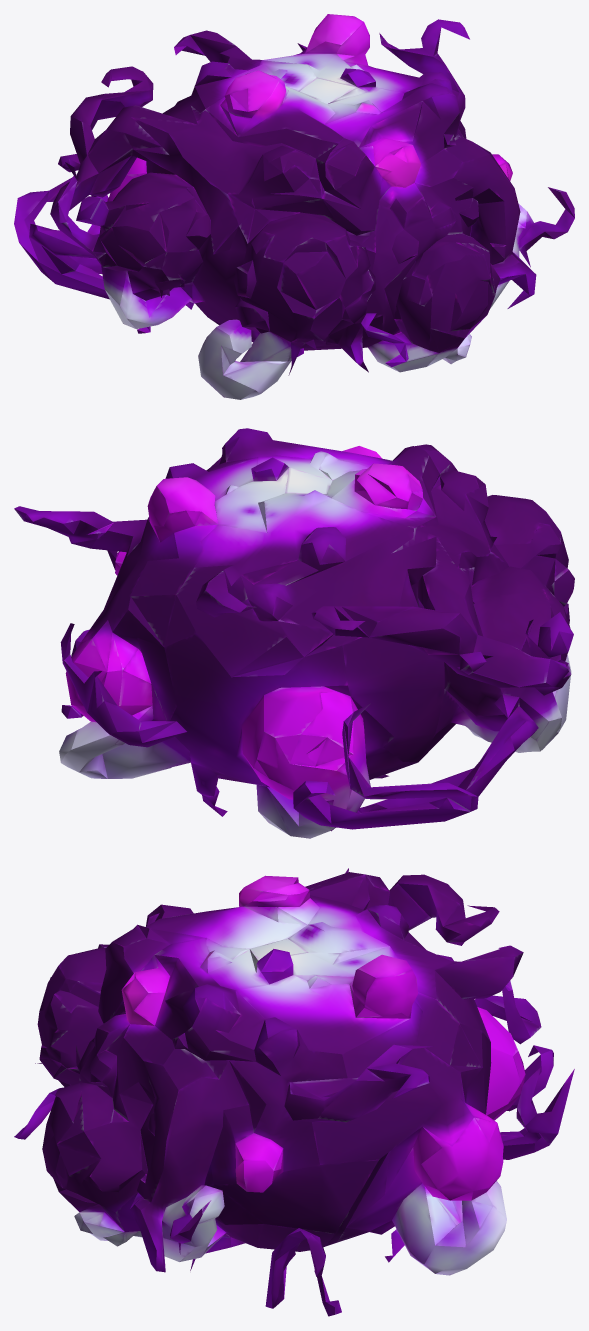
Rendered from boss_toxar.glb.
3 views of the same model, one above another, from view 1: azimuth 30°, elevation 25°; view 2: azimuth 150°, elevation 25°; view 3: azimuth 270°, elevation 25° (orthographic). The views are drawn at different scales.
Bounding box in the file's own units: 1.9 × 1.15 × 1.76.
1 material, 1 textured.
